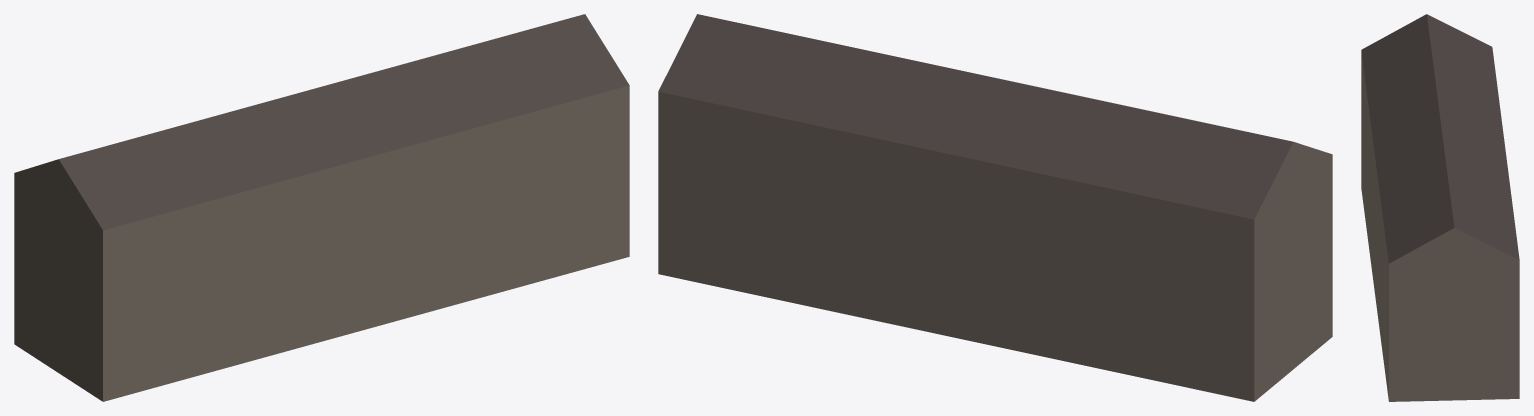
3 views of the same model, side by side, from view 1: azimuth 30°, elevation 25°; view 2: azimuth 150°, elevation 25°; view 3: azimuth 270°, elevation 25° (orthographic). The views are drawn at different scales.
Visible parts, largest first — view 1: HP-w1424106467; view 2: HP-w1424106467; view 3: HP-w1424106467.
Part boxes in pixels (<box>): HP-w1424106467: <box>14,14,629,401</box>; HP-w1424106467: <box>658,14,1332,401</box>; HP-w1424106467: <box>1361,14,1519,401</box>.
Bounding box in the file's own units: 20.19 × 7.49 × 6.23.
